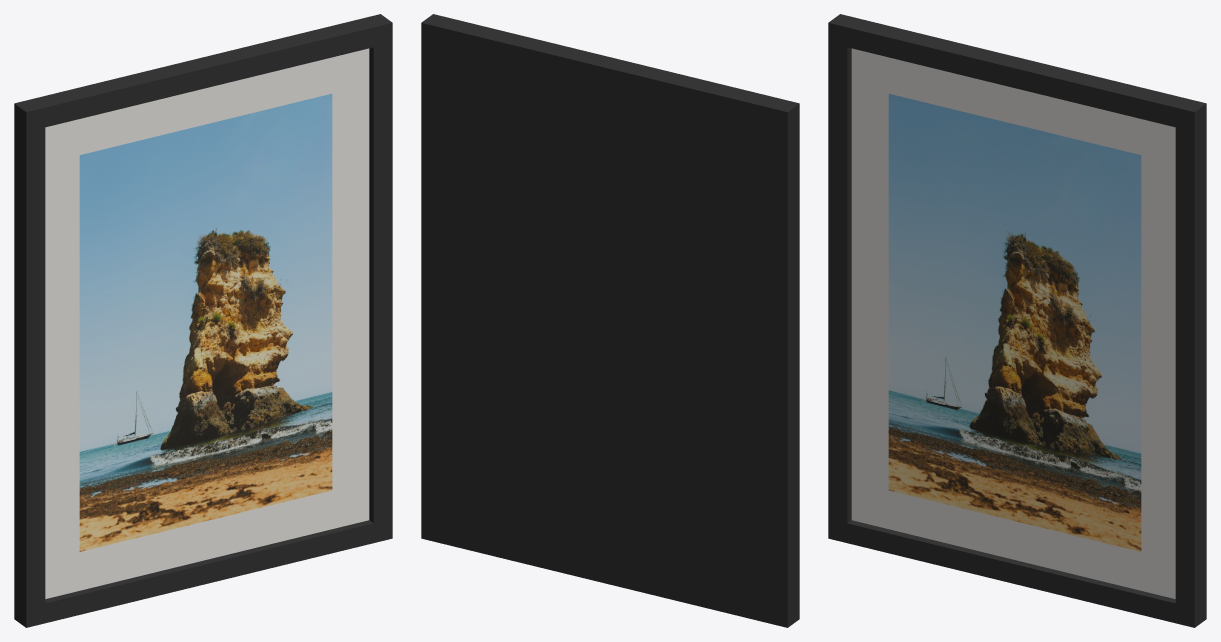
Rendered from klippan-40.gltf.
3 views of the same model, side by side, from view 1: azimuth 30°, elevation 25°; view 2: azimuth 150°, elevation 25°; view 3: azimuth 330°, elevation 25° (orthographic).
Parts seen in each view (by area): view 1: tavla; view 2: tavla; view 3: tavla.
Boxes of the visible parts, bbox=[...] form: tavla: bbox=[14, 14, 392, 627]; tavla: bbox=[421, 14, 799, 627]; tavla: bbox=[828, 14, 1206, 627].
Bounding box in the file's own units: 0.3867 × 0.52 × 0.022.
3 materials, 1 textured.
